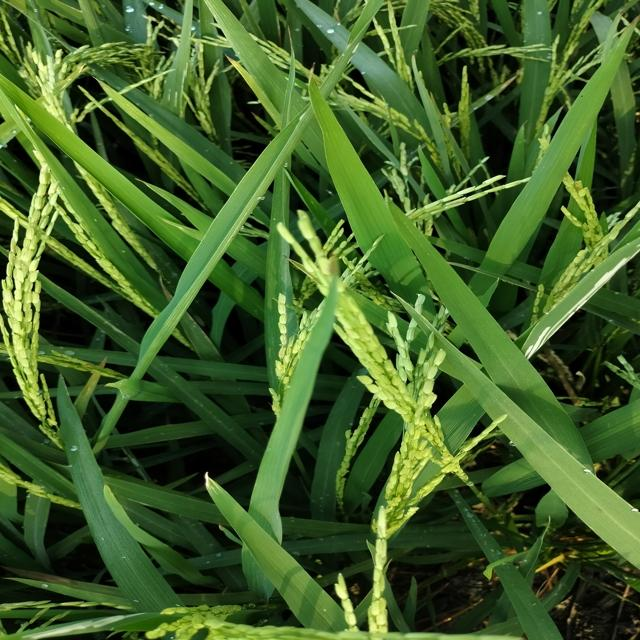Bacterial leaf blight: (523, 238, 640, 359), (201, 469, 225, 499)
